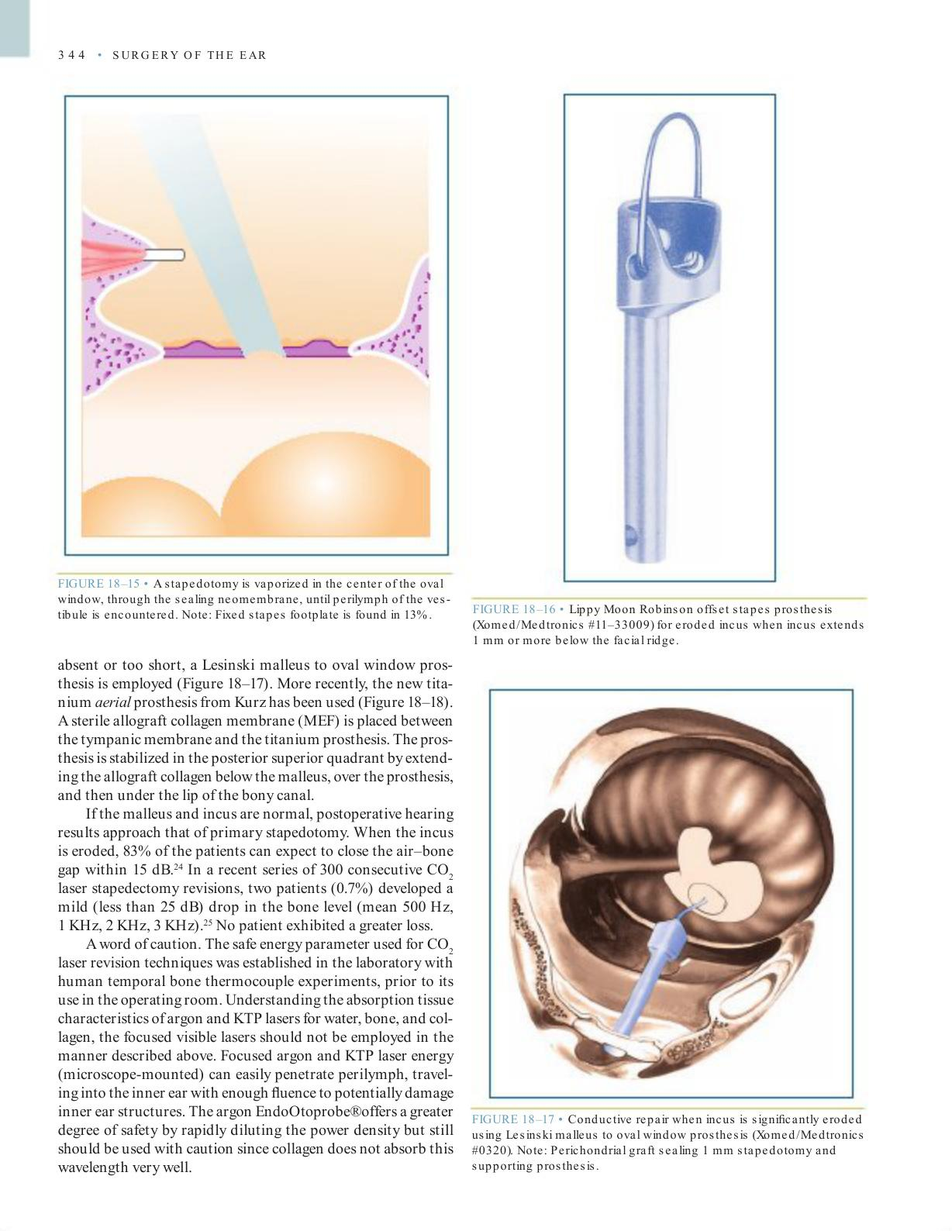caption: (470, 1112, 865, 1174), (56, 576, 451, 624), (472, 601, 866, 649)
header: (111, 49, 268, 62)
image: (70, 100, 442, 550), (494, 694, 848, 1094), (570, 99, 769, 576)
text: (56, 657, 455, 1177)
